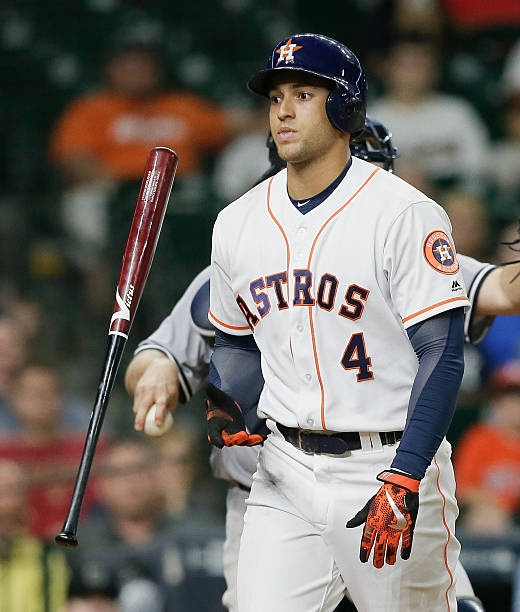bita: (51, 142, 182, 550)
